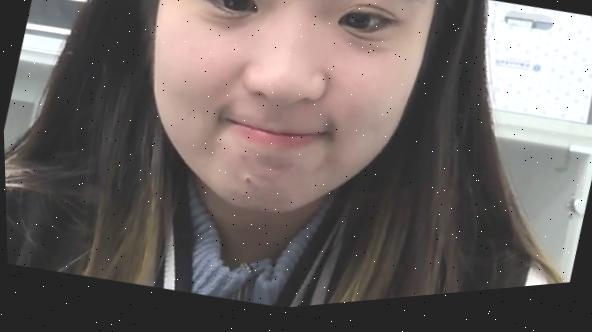eye: (348, 17, 368, 36), (225, 0, 245, 15)
iris: (339, 10, 389, 46), (203, 0, 254, 24)
